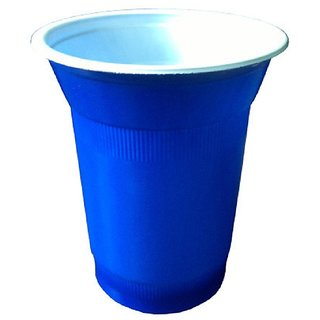plastic_glass: (22, 4, 302, 320)
